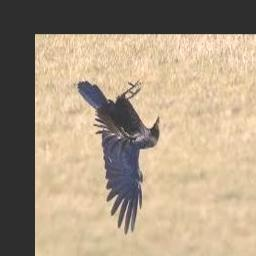Crow: (76, 79, 160, 235)
